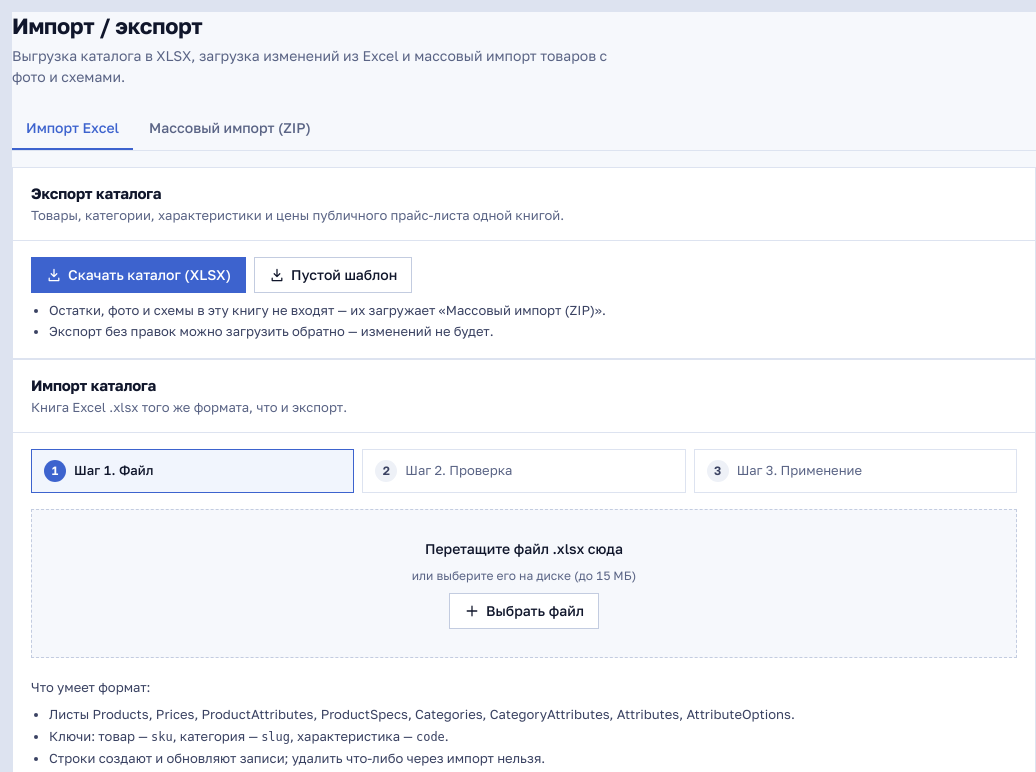
Test: экспорт › скачивает каталог под именем из ответа backend
Click the button "Скачать каталог (XLSX)" at (138, 275), box x1=31 y1=257 x2=246 y2=293
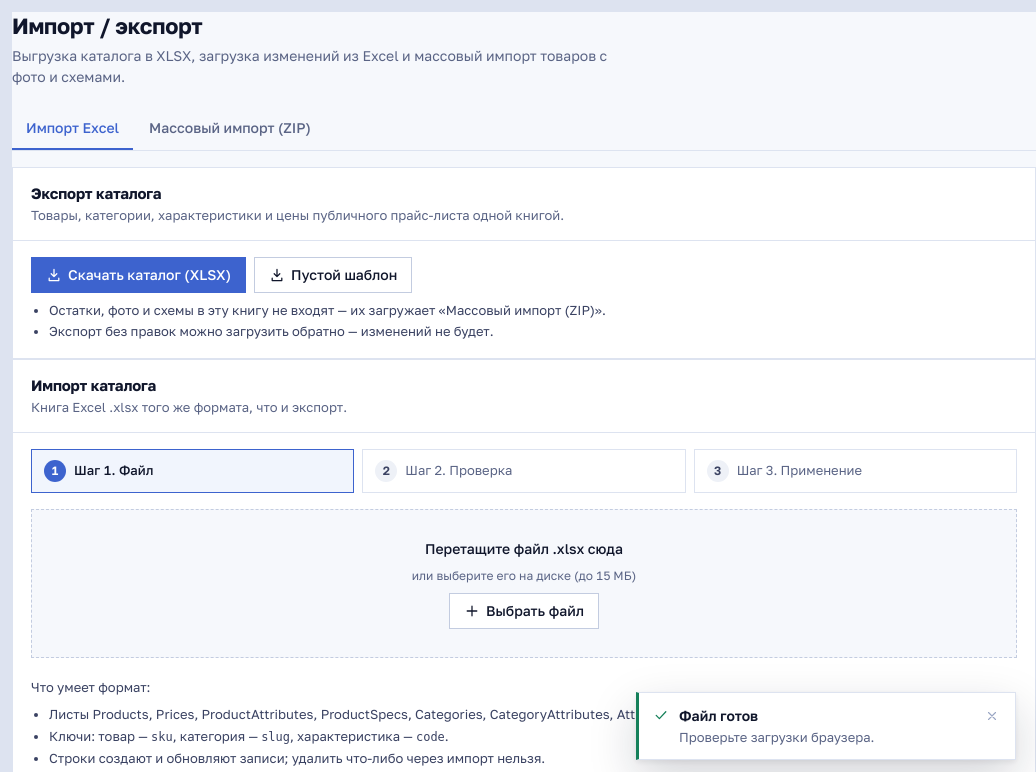
Expected: the text "Файл готов" is shown, x1=679 y1=706 x2=758 y2=724
